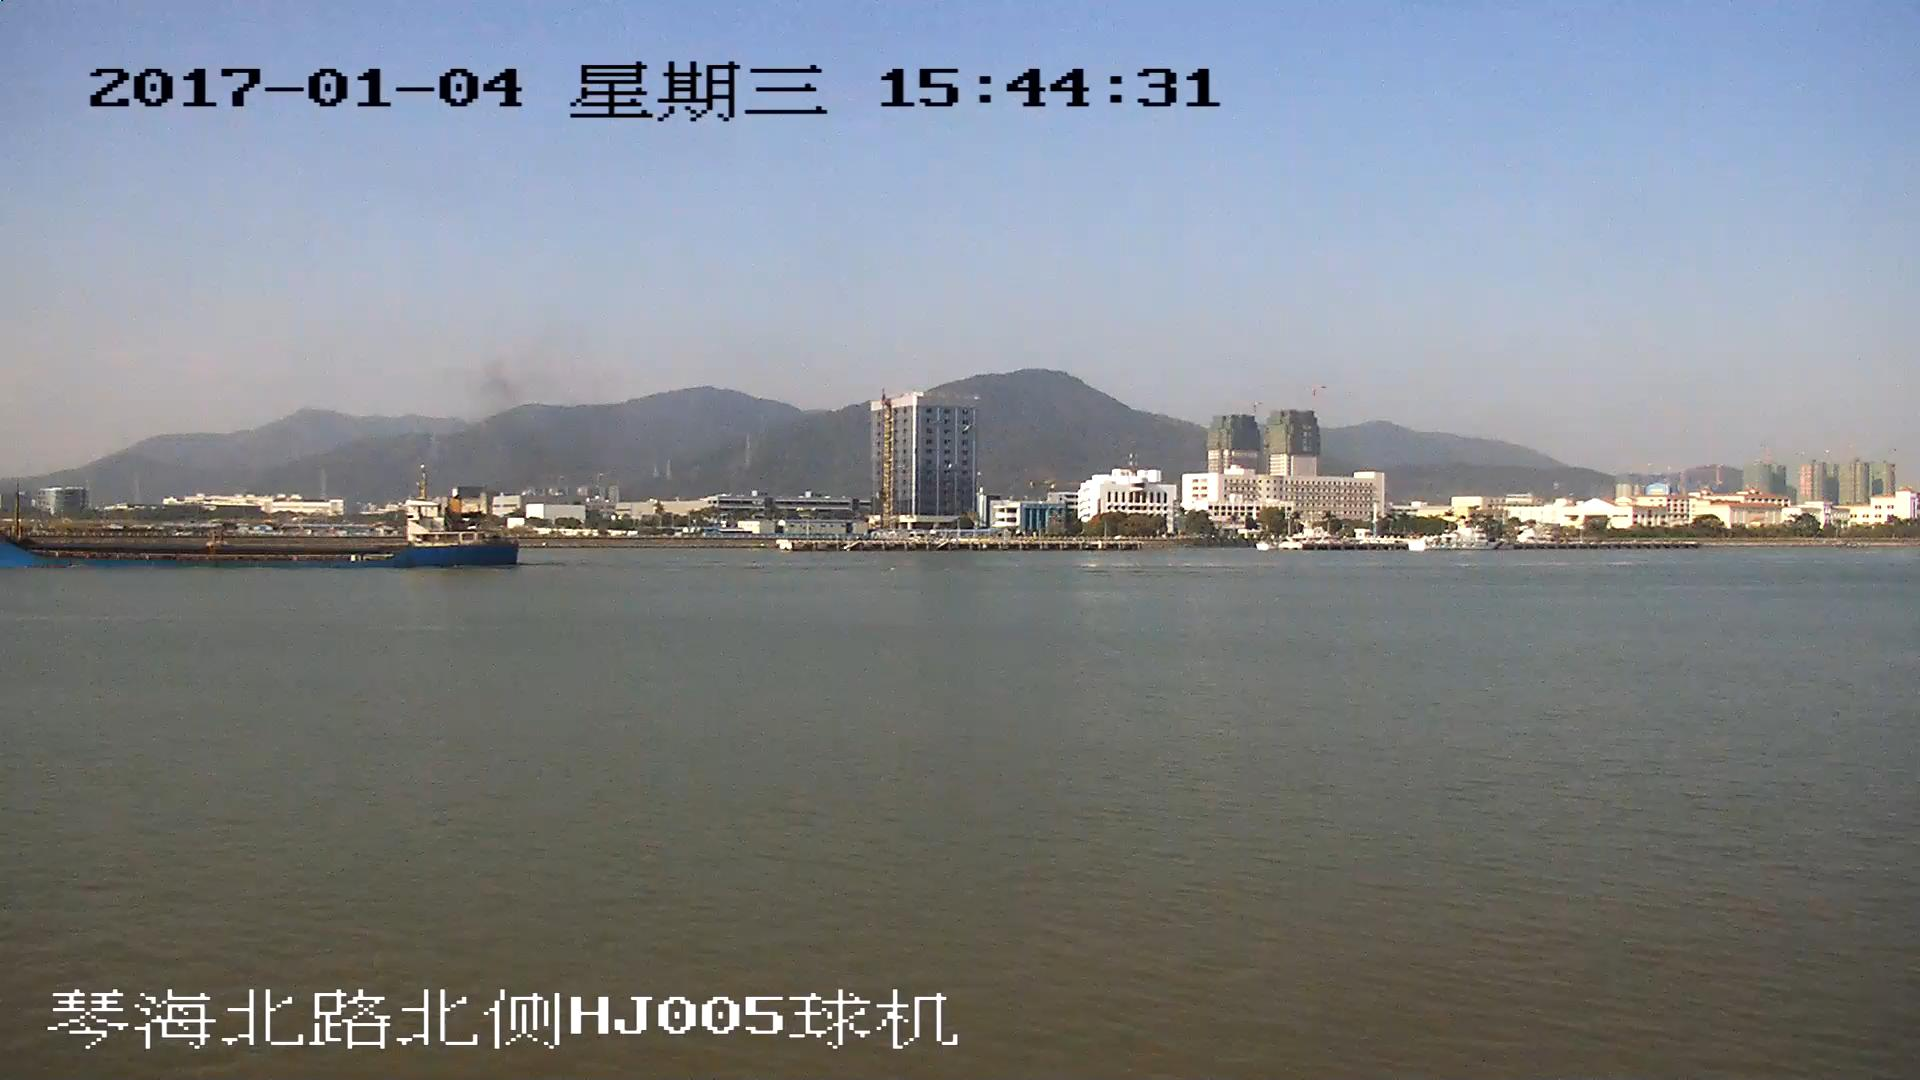general cargo ship: (1, 470, 522, 569)
